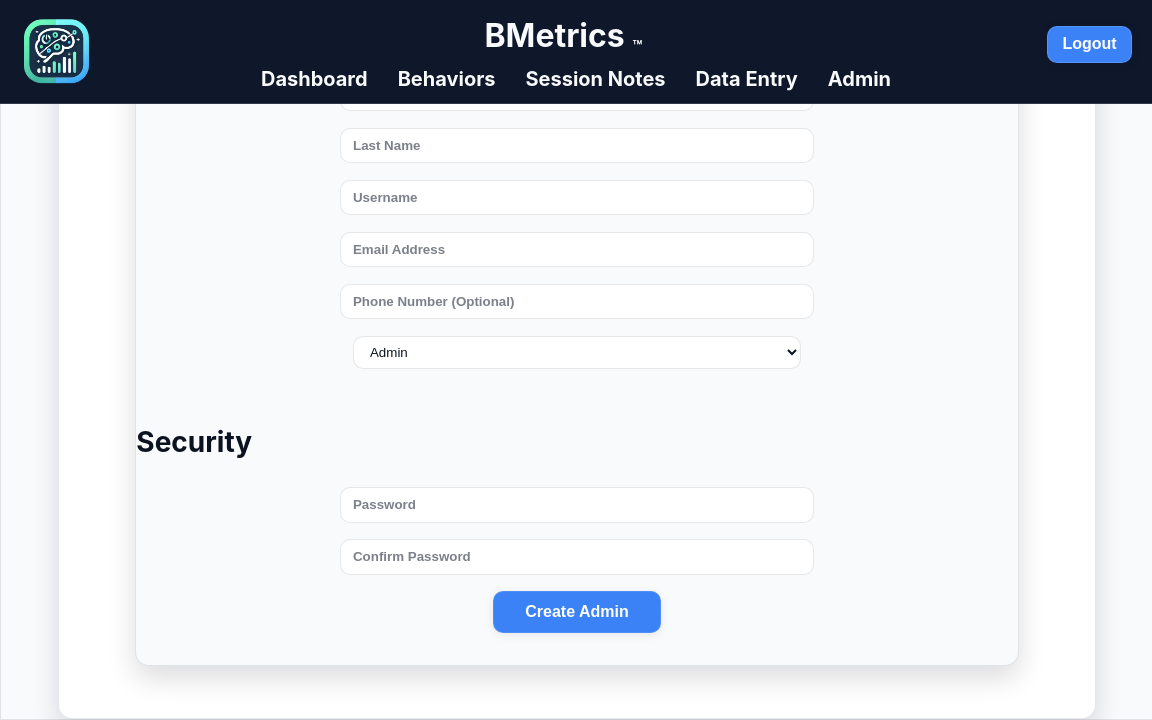
Test: AddAdmin Page Integration › validates required fields before submission
(page scrolled)
Click the button "Create Admin": (577, 612) top-left (493, 591), bottom-right (661, 633)
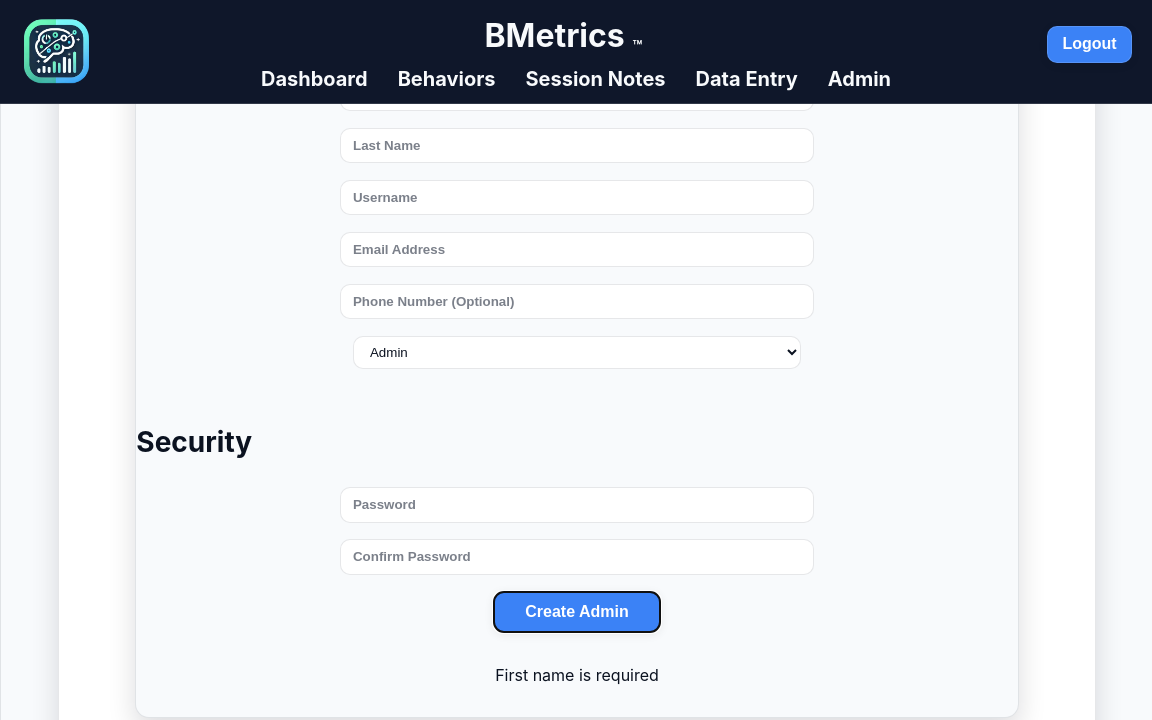
Check: the text "First name is required" is shown, box top-left (495, 665), bottom-right (659, 685)
